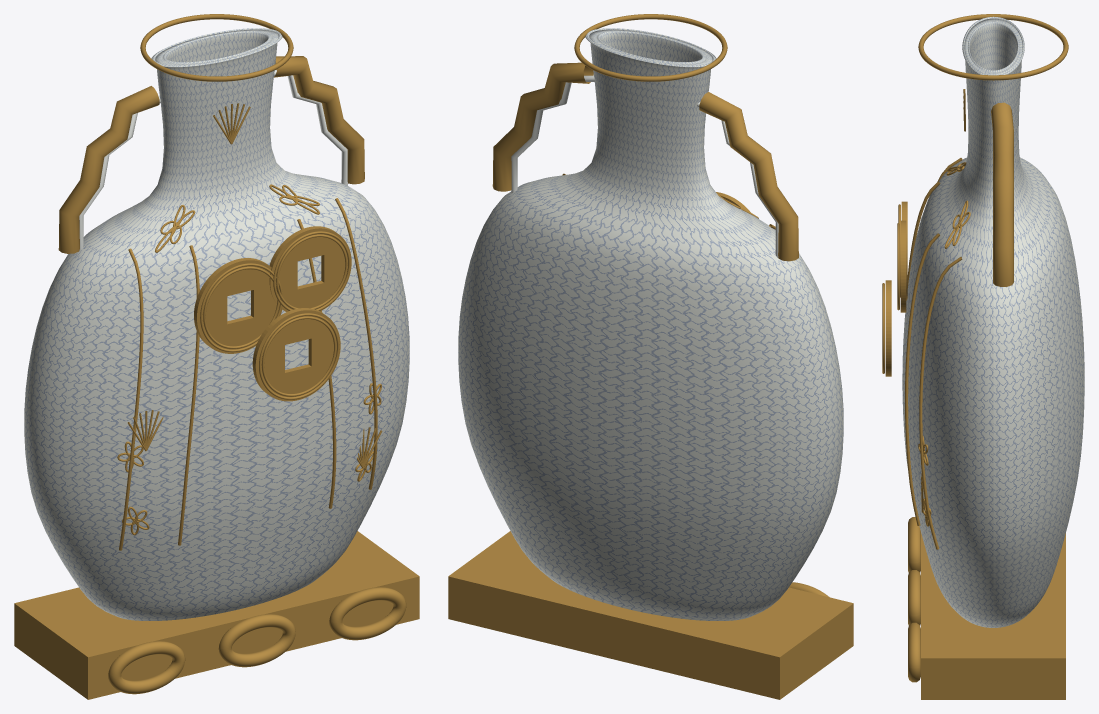
Rendered from bcm-951.glb.
3 views of the same model, side by side, from view 1: azimuth 30°, elevation 25°; view 2: azimuth 150°, elevation 25°; view 3: azimuth 270°, elevation 25° (orthographic).
Parts seen in each view (by area): view 1: 951 flattened flask with hollow neck, 951 gold mouth, 951 inner ear fillet; view 2: 951 flattened flask with hollow neck, 951 gold mouth, 951 inner ear fillet; view 3: 951 flattened flask with hollow neck, 951 gold mouth.
Part boxes in pixels (bbox=[...]): 951 flattened flask with hollow neck: bbox=[24, 28, 409, 620]; 951 gold mouth: bbox=[14, 14, 419, 699]; 951 inner ear fillet: bbox=[79, 70, 347, 251]; 951 flattened flask with hollow neck: bbox=[458, 28, 843, 620]; 951 gold mouth: bbox=[448, 14, 853, 699]; 951 inner ear fillet: bbox=[511, 75, 778, 257]; 951 flattened flask with hollow neck: bbox=[902, 16, 1084, 627]; 951 gold mouth: bbox=[882, 14, 1068, 699].
Bounding box in the file's own units: 0.6431 × 0.9683 × 0.3071.
3 materials, 1 textured.
